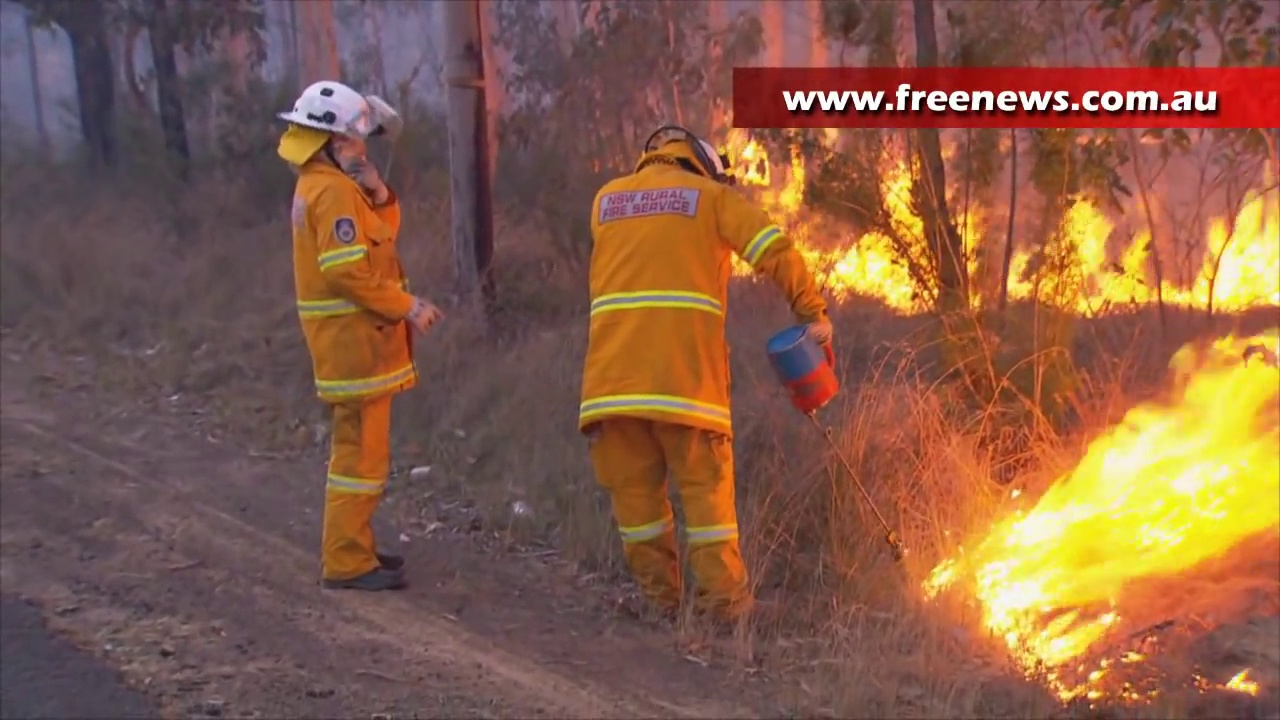fire: (955, 329, 1280, 654), (836, 185, 973, 304), (1007, 204, 1143, 308), (1206, 197, 1279, 305), (720, 124, 763, 179)
